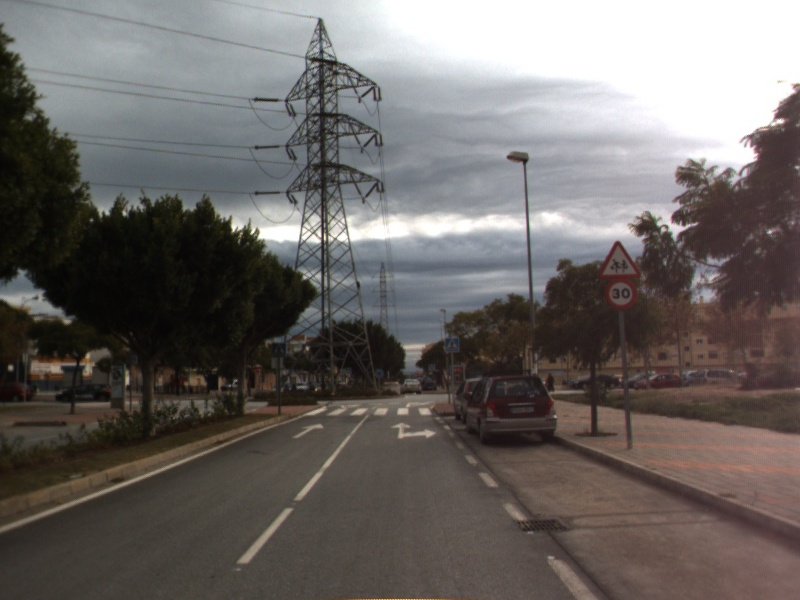STRAIGHT: (290, 421, 326, 440)
STRAIGHT_RIGHT: (389, 420, 439, 441)
